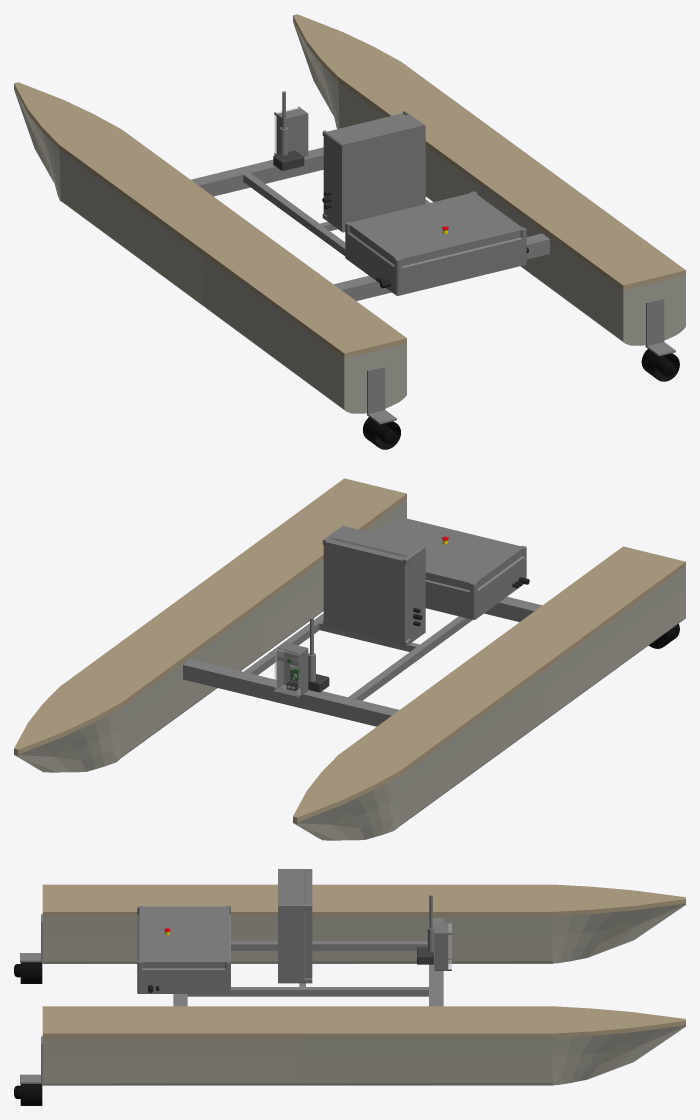
3 renders of one model, top to bottom at view 1: azimuth 30°, elevation 25°; view 2: azimuth 150°, elevation 25°; view 3: azimuth 270°, elevation 25°, orthographic. The views are drawn at different scales.
Parts seen in each view (by area): view 1: Hulls, BatteryBox, ComputerBox, FrontSupport, PropellorBrackets, Propellors, RightSupport, BackSupport, SensorBox; view 2: Hulls, ComputerBox, BatteryBox, FrontSupport, RightSupport, SensorBox, BackSupport, MiddleSupport; view 3: Hulls, BatteryBox, ComputerBox, RightSupport, Propellors, SensorBox, FrontSupport, PropellorBrackets.
Part boxes in pixels (x1,y1,x2,y2): Hulls: (14, 14, 685, 413); BatteryBox: (345, 191, 526, 295); ComputerBox: (322, 111, 425, 232); FrontSupport: (191, 147, 323, 196); PropellorBrackets: (367, 298, 675, 424); Propellors: (363, 349, 679, 449); RightSupport: (243, 173, 430, 255); BackSupport: (334, 233, 549, 300); SensorBox: (274, 106, 308, 156); Hulls: (14, 478, 685, 840); ComputerBox: (322, 525, 425, 647); BatteryBox: (375, 515, 526, 619); FrontSupport: (183, 659, 398, 726); RightSupport: (243, 613, 472, 700); SensorBox: (274, 642, 308, 697); BackSupport: (484, 596, 541, 621); MiddleSupport: (319, 621, 419, 651); Hulls: (42, 884, 685, 1085); BatteryBox: (137, 906, 230, 993); ComputerBox: (278, 869, 312, 983); RightSupport: (187, 941, 428, 996); Propellors: (14, 962, 42, 1105); SensorBox: (434, 922, 451, 970); FrontSupport: (429, 918, 443, 1006); PropellorBrackets: (20, 914, 42, 1083).
Bounding box in the file's own units: 9.8 × 4.8 × 18.66.
